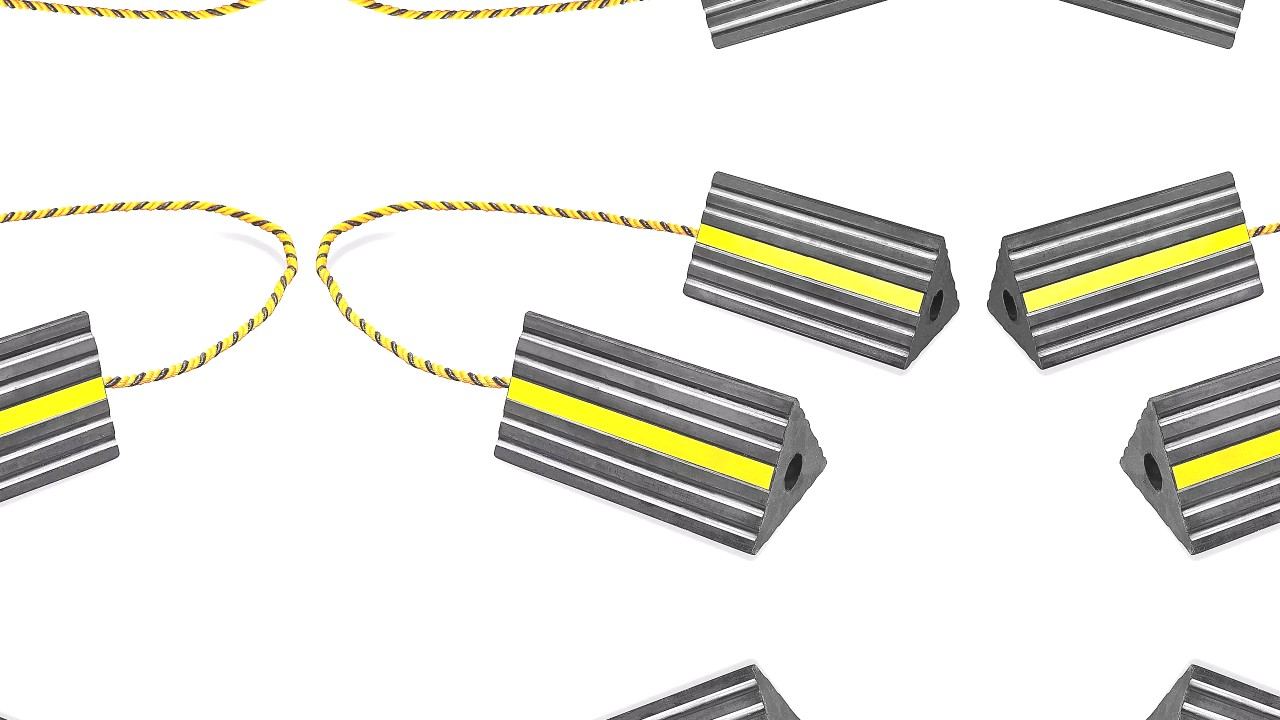chock: (493, 309, 831, 559), (681, 170, 961, 373), (986, 170, 1266, 373), (1116, 309, 1280, 559), (0, 309, 120, 559), (493, 661, 831, 720), (681, 0, 961, 50), (986, 0, 1266, 50), (1116, 661, 1280, 720)
